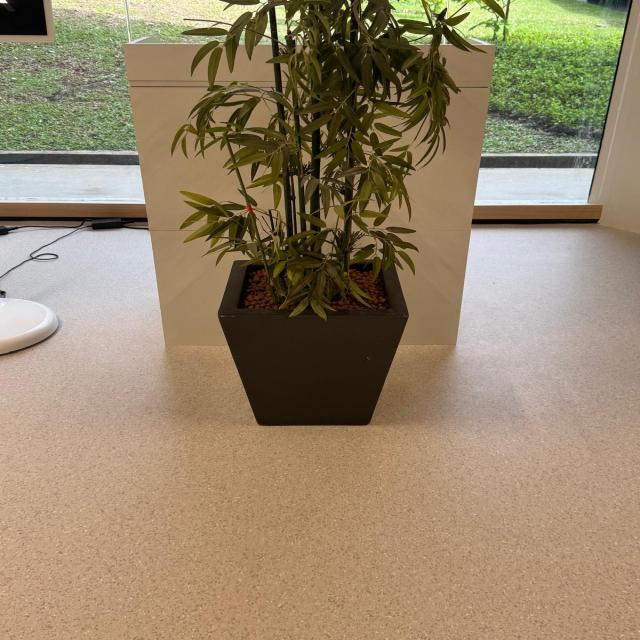Pot: (218, 259, 409, 426)
